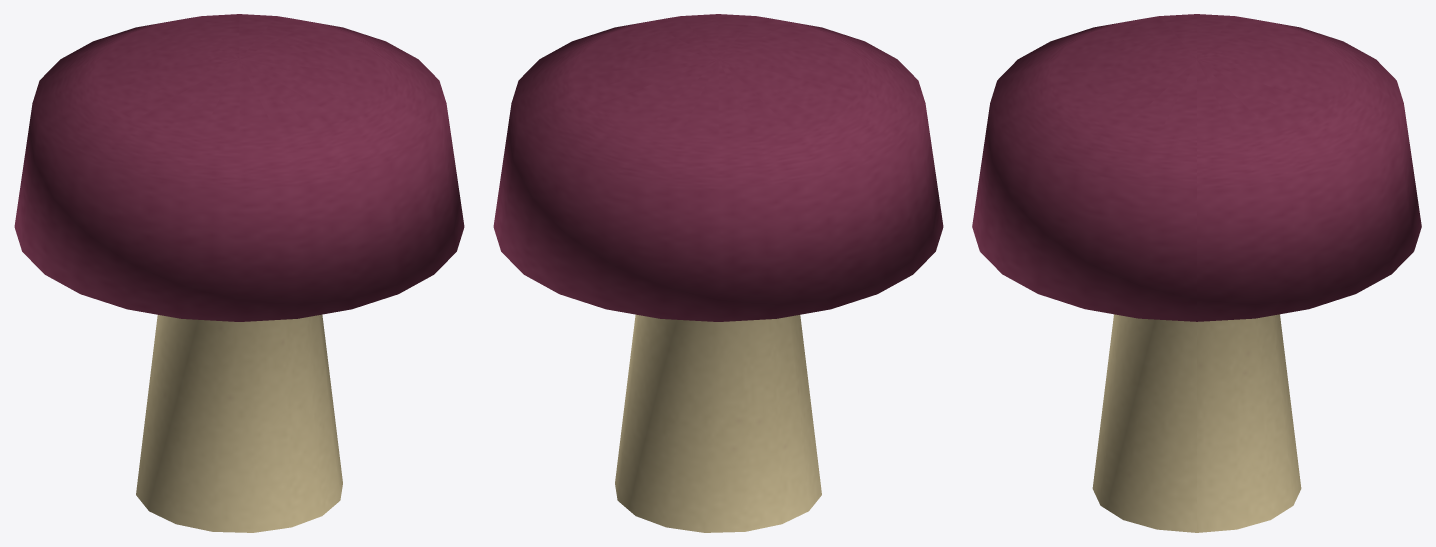
The model's file is mushroom.glb.
3 renders of one model, left to right at view 1: azimuth 30°, elevation 25°; view 2: azimuth 150°, elevation 25°; view 3: azimuth 270°, elevation 25°, orthographic.
Visible parts, largest first — view 1: mushroom; view 2: mushroom; view 3: mushroom.
Boxes of the visible parts, bbox=[...] form: mushroom: bbox=[14, 14, 464, 532]; mushroom: bbox=[493, 14, 943, 532]; mushroom: bbox=[972, 14, 1421, 532].
Bounding box in the file's own units: 0.56 × 0.59 × 0.56.
2 materials, 2 textured.
